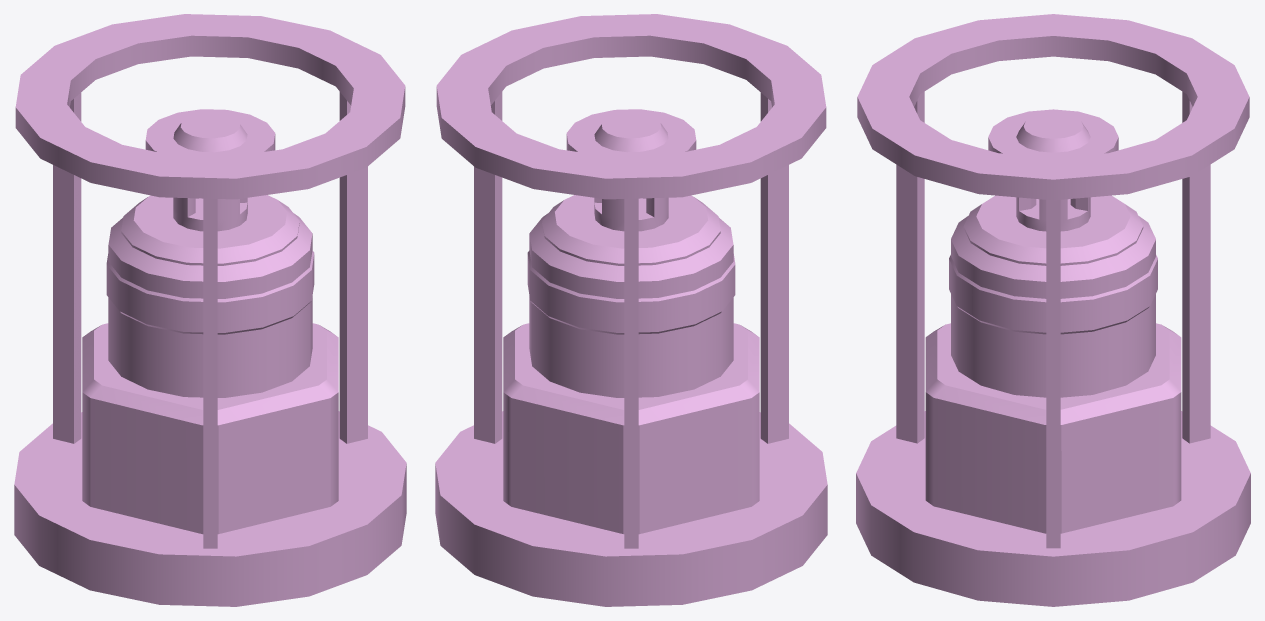
The model's file is Pistão.fbx.
3 renders of one model, left to right at view 1: azimuth 30°, elevation 25°; view 2: azimuth 150°, elevation 25°; view 3: azimuth 270°, elevation 25°, orthographic.
Parts seen in each view (by area): view 1: Pistao; view 2: Pistao; view 3: Pistao.
Boxes of the visible parts, box(x1,y1,x2,y2) form: Pistao: box(14, 14, 406, 606); Pistao: box(435, 14, 827, 606); Pistao: box(856, 14, 1250, 606).
Bounding box in the file's own units: 14.21 × 16.95 × 14.21.
